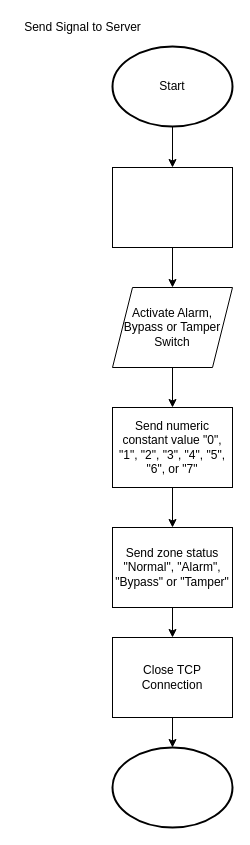
Some shapes in this 250 by 845 pixel diagram are drawn without their labels. The shapes that lost their labels are listed below. From the top down, each one's box as (x1, y1, x2, y2) in pixels, then its label:
(112, 166, 232, 248): Build TCP Connection with Server Side
(111, 746, 233, 828): End
